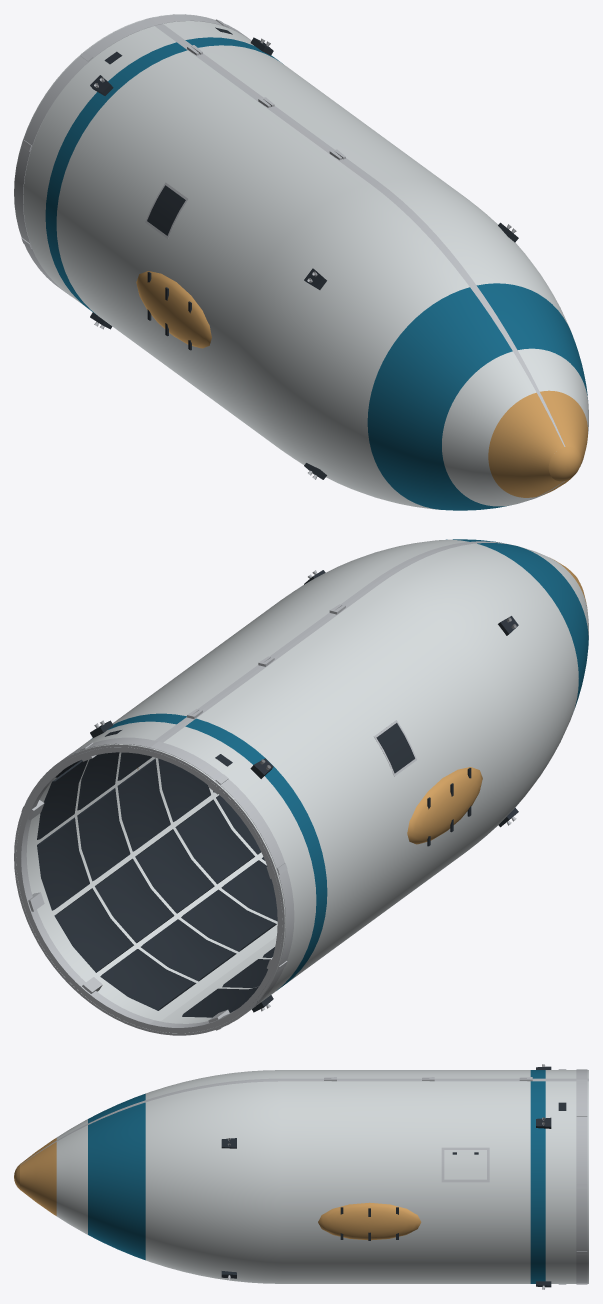
File: fairing_reusable_large.fbx
3 renders of one model, top to bottom at view 1: azimuth 30°, elevation 25°; view 2: azimuth 150°, elevation 25°; view 3: azimuth 270°, elevation 25°, orthographic. The views are drawn at different scales.
Visible parts, largest first — view 1: fairing_reusable_large_half_b_LOD0, fairing_reusable_large_half_a_LOD0; view 2: fairing_reusable_large_half_b_LOD0, fairing_reusable_large_half_a_LOD0; view 3: fairing_reusable_large_half_a_LOD0, fairing_reusable_large_half_b_LOD0.
Boxes of the visible parts, x1=… form: fairing_reusable_large_half_b_LOD0: x1=14, y1=18, x2=569, y2=510; fairing_reusable_large_half_a_LOD0: x1=150, y1=14, x2=588, y2=499; fairing_reusable_large_half_b_LOD0: x1=149, y1=542, x2=588, y2=1035; fairing_reusable_large_half_a_LOD0: x1=14, y1=539, x2=503, y2=1031; fairing_reusable_large_half_a_LOD0: x1=14, y1=1078, x2=588, y2=1289; fairing_reusable_large_half_b_LOD0: x1=15, y1=1064, x2=588, y2=1171.
Size of what is drawn, in the model's own units: 5.76 by 5.49 by 14.5.
